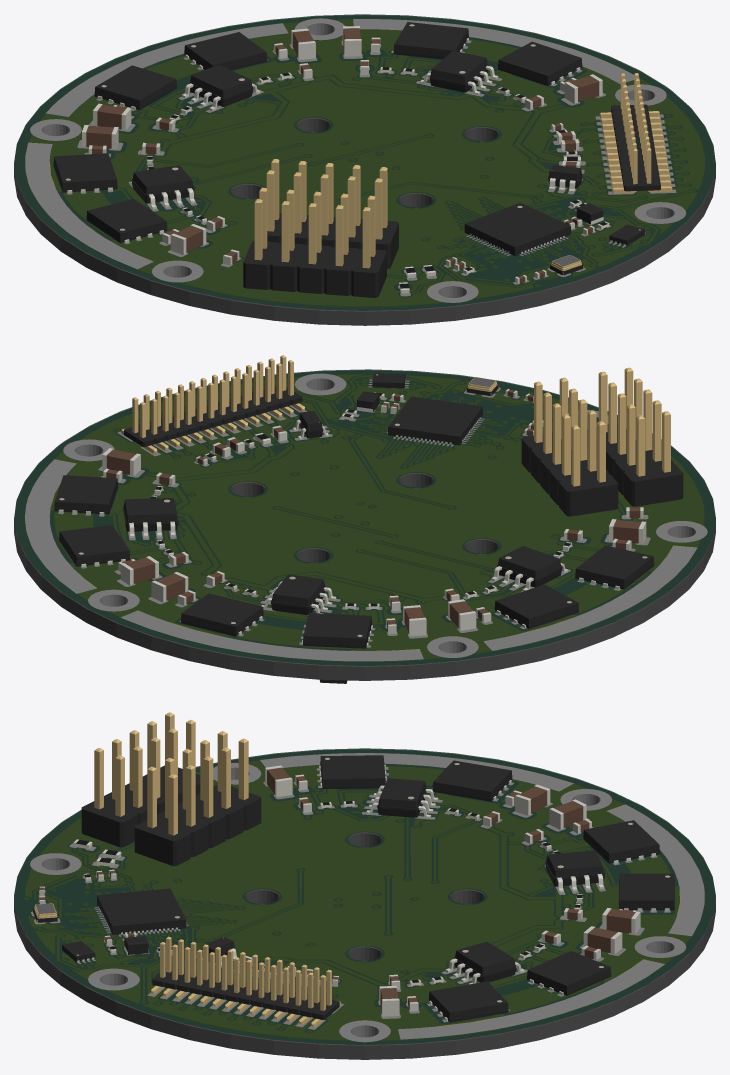
3 views of the same model, one above another, from view 1: azimuth 30°, elevation 25°; view 2: azimuth 150°, elevation 25°; view 3: azimuth 270°, elevation 25° (orthographic).
Visible parts, largest first — view 1: servodrive_A_soldermask, servodrive_A_copper, servodrive_A_PCB, servodrive_A_pad, PinHeader_2x05_P2.54mm_Vertical (×2), TDSON-8-1 (×6), SOIC-8_3.9x4.9mm_P1.27mm (×3), PinHeader_2x14_P1.27mm_Vertical_SMD, C_1206_3216Metric (×6), QFN-56-1EP_7x7mm_P0.4mm_EP5.6x5.6mm, SOT-23-5, Winbond_USON-8-1EP_3x2mm_P0.5mm_EP0.2x1.6mm; view 2: servodrive_A_soldermask, servodrive_A_copper, servodrive_A_PCB, servodrive_A_pad, PinHeader_2x05_P2.54mm_Vertical (×2), TDSON-8-1 (×6), PinHeader_2x14_P1.27mm_Vertical_SMD, SOIC-8_3.9x4.9mm_P1.27mm (×3), C_1206_3216Metric (×6), QFN-56-1EP_7x7mm_P0.4mm_EP5.6x5.6mm, SOT-23-5; view 3: servodrive_A_soldermask, servodrive_A_copper, servodrive_A_PCB, servodrive_A_pad, PinHeader_2x05_P2.54mm_Vertical (×2), TDSON-8-1 (×6), PinHeader_2x14_P1.27mm_Vertical_SMD, SOIC-8_3.9x4.9mm_P1.27mm (×3), C_1206_3216Metric (×6), QFN-56-1EP_7x7mm_P0.4mm_EP5.6x5.6mm.
Boxes of the visible parts, x1,y1,x2,y2 form: servodrive_A_soldermask: (14,14,715,310); servodrive_A_copper: (27,20,704,306); servodrive_A_PCB: (14,15,715,325); servodrive_A_pad: (25,18,686,302); PinHeader_2x05_P2.54mm_Vertical (×2): (243,159,398,297); TDSON-8-1 (×6): (53,22,582,243); SOIC-8_3.9x4.9mm_P1.27mm (×3): (130,51,498,209); PinHeader_2x14_P1.27mm_Vertical_SMD: (599,73,672,193); C_1206_3216Metric (×6): (82,26,602,254); QFN-56-1EP_7x7mm_P0.4mm_EP5.6x5.6mm: (464,202,570,255); SOT-23-5: (548,165,582,192); Winbond_USON-8-1EP_3x2mm_P0.5mm_EP0.2x1.6mm: (609,224,644,245); servodrive_A_soldermask: (14,369,715,665); servodrive_A_copper: (25,375,703,661); servodrive_A_PCB: (14,371,715,680); servodrive_A_pad: (25,373,707,661); PinHeader_2x05_P2.54mm_Vertical (×2): (521,367,683,516); TDSON-8-1 (×6): (54,475,654,648); PinHeader_2x14_P1.27mm_Vertical_SMD: (121,355,304,453); SOIC-8_3.9x4.9mm_P1.27mm (×3): (123,498,567,615); C_1206_3216Metric (×6): (102,448,646,636); QFN-56-1EP_7x7mm_P0.4mm_EP5.6x5.6mm: (388,396,482,445); SOT-23-5: (293,411,328,439); servodrive_A_soldermask: (14,748,715,1044); servodrive_A_copper: (24,753,690,1040); servodrive_A_PCB: (14,750,715,1059); servodrive_A_pad: (30,753,704,1042); PinHeader_2x05_P2.54mm_Vertical (×2): (81,712,261,865); TDSON-8-1 (×6): (319,755,674,1022); PinHeader_2x14_P1.27mm_Vertical_SMD: (151,936,340,1027); SOIC-8_3.9x4.9mm_P1.27mm (×3): (366,778,604,984); C_1206_3216Metric (×6): (265,765,640,1016); QFN-56-1EP_7x7mm_P0.4mm_EP5.6x5.6mm: (97,888,186,934).
Size of the model in its own units: 0.065 by 0.012 by 0.065.
